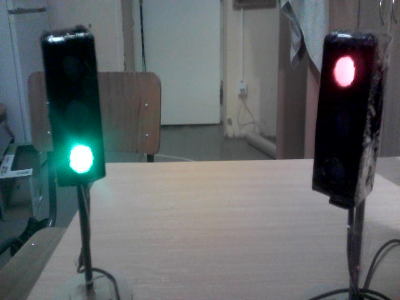trafficlight_green: (46, 34, 101, 177)
trafficlight_red: (321, 35, 375, 190)
